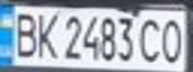2: (60, 11, 84, 61)
3: (115, 14, 139, 63)
4: (78, 11, 103, 62)
8: (96, 12, 121, 62)
B: (9, 9, 42, 58)
C: (136, 15, 166, 64)
K: (33, 9, 60, 60)
O: (157, 14, 190, 65)
